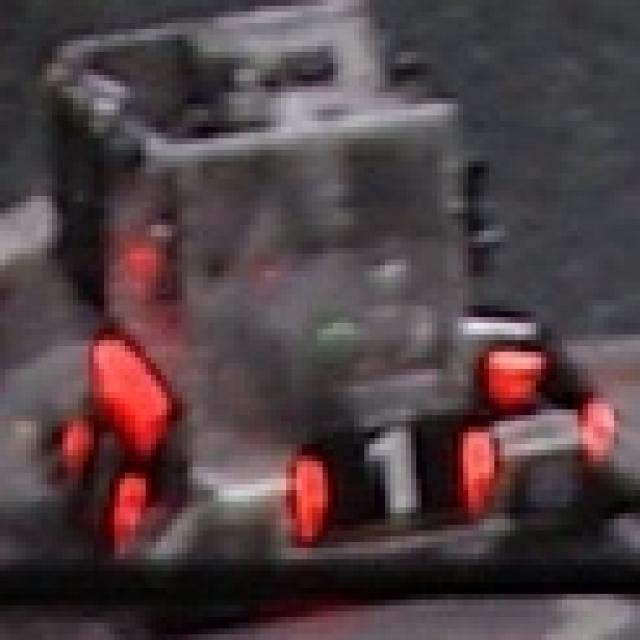R1: (292, 409, 494, 536), (447, 283, 562, 387), (52, 415, 146, 542)
